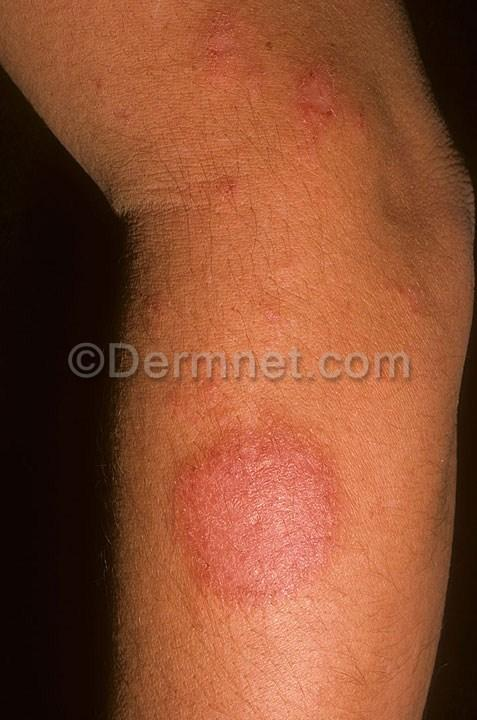Eczema: (179, 417, 329, 618)
